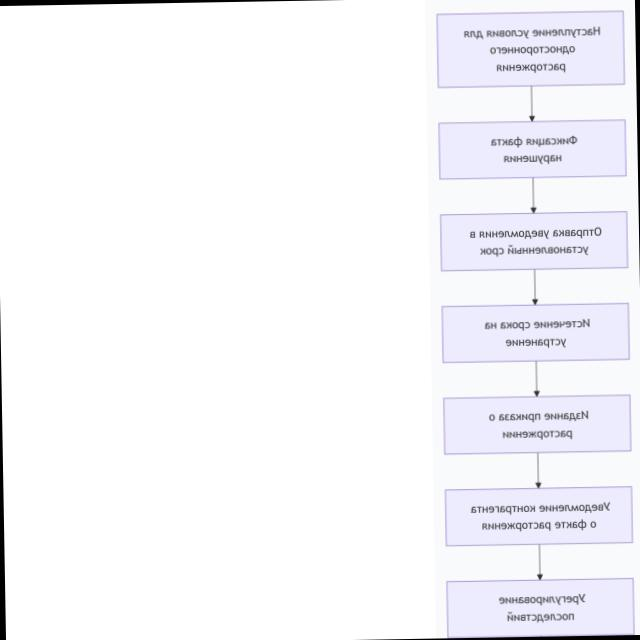arrow: (531, 270, 536, 305), (530, 179, 535, 213), (535, 454, 540, 488), (529, 87, 533, 121), (534, 362, 538, 396), (538, 545, 540, 570)
rectangle: (436, 10, 626, 89), (440, 212, 627, 271), (443, 395, 630, 454), (438, 120, 625, 179), (441, 303, 628, 362), (445, 487, 631, 546), (446, 579, 633, 637)
